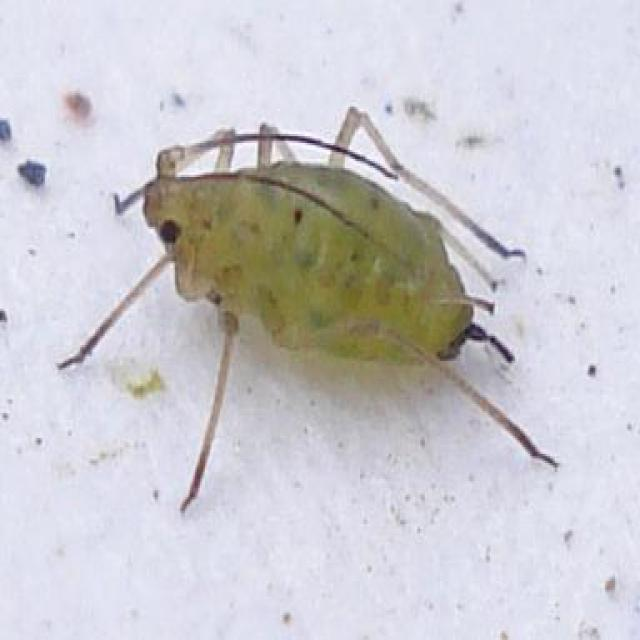Aphids: (86, 75, 552, 508)
